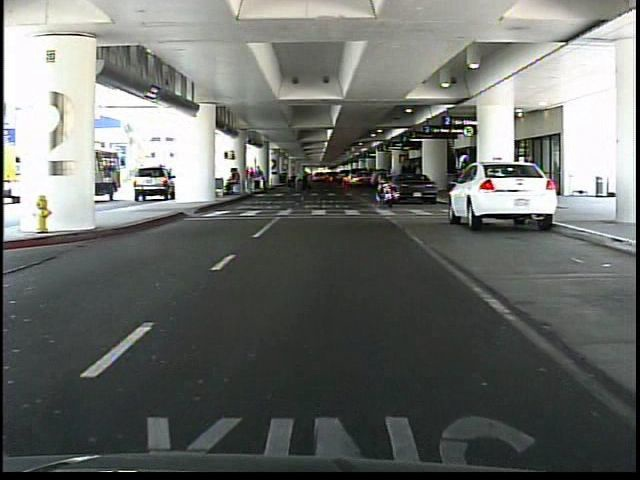person: (452, 151, 473, 223)
